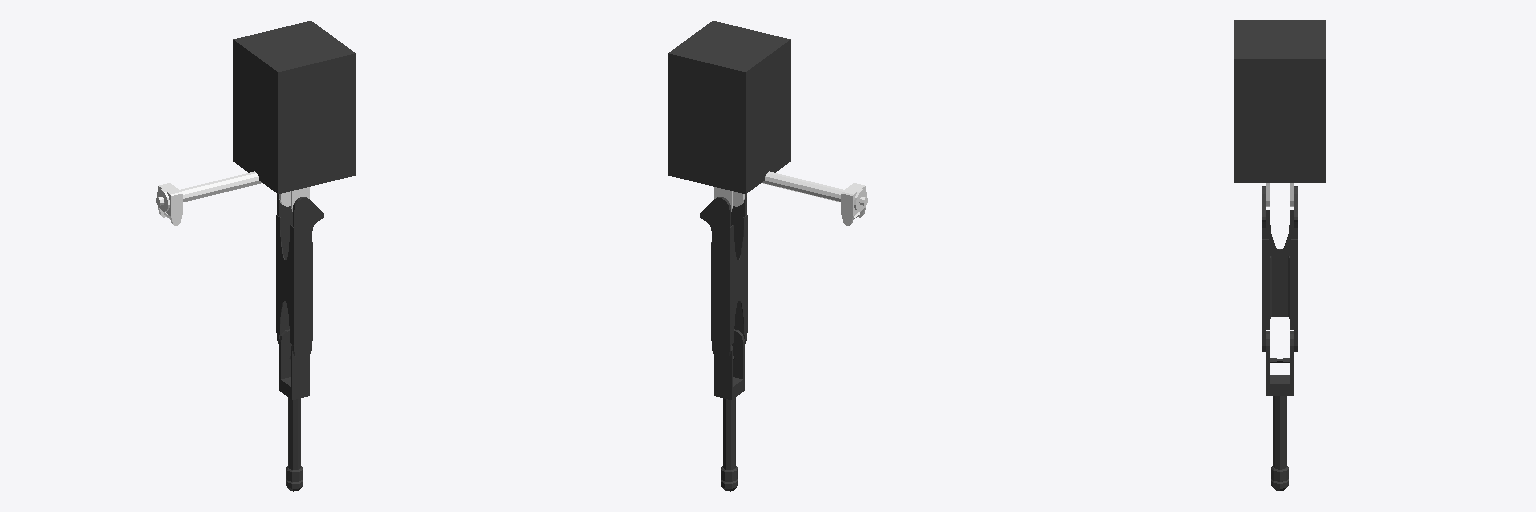
The robot description file, URDF, robot "monoped":
<robot name="monoped">
    <link name="base">
	    <visual>
	      <geometry>
	        <box size="0.20 0.20 0.30"/>
	      </geometry>
	      <material name="blue">
	        <color rgba="0.3 0.3 0.3 1.0"/>
	      </material>
	    </visual>        
    </link>
    
    <link name="hipassembly">
	    <visual>
	      <origin rpy="0.0 0.0 0.0" xyz="0.0 0.0 0.0"/>
	      <geometry>
	        <mesh filename="package://xpp_hyq_monoped_description/meshes/leg/hip.dae" scale="1 1 1"/>
	      </geometry>
	      <material name="white"/>
	    </visual>        
    </link>
    <link name="upperleg">
	    <visual>
	      <origin rpy="0.0 0.0 0.0" xyz="0.0 0.0 0.0"/>
	      <geometry>
	        <mesh filename="package://xpp_hyq_monoped_description/meshes/leg/upper.dae" scale="1 1 1"/>
	      </geometry>
	      <material name="blue"/>
	    </visual>
    </link>
    <link name="lowerleg">
	    <visual>
	      <geometry>
	        <mesh filename="package://xpp_hyq_monoped_description/meshes/leg/lower.dae" scale="1 1 1"/>
	      </geometry>
	      <material name="blue"/>
	    </visual>        
    </link>
    
    <joint name="haa_joint" type="revolute">
        <origin xyz="0.0 0.0 -0.15000" rpy="2.0344439357957036 1.5707962290814481 -1.1071487177940917"/>
        <parent link="base"/>
        <child  link="hipassembly"/>
        <limit effort="200" lower="-1.6" upper="1.6" velocity="1.0"/>
        <axis xyz="0 0 1"/>
    </joint>
    <joint name="hfe_joint" type="revolute">
        <origin xyz="0.08000 0.00000 0.00000" rpy="1.5707963705062866 -0.0 0.0"/>
        <parent link="hipassembly"/>
        <child  link="upperleg"/>
        <limit effort="200" lower="-1.6" upper="1.6" velocity="1.0"/>
        <axis xyz="0 0 1"/>
    </joint>
    <joint name="kfe_joint" type="revolute">
        <origin xyz="0.35000 0.00000 0.00000" rpy="0.0 0.0 0.0"/>
        <parent link="upperleg"/>
        <child  link="lowerleg"/>
        <limit effort="200" lower="-1.6" upper="1.6" velocity="1.0"/>
        <axis xyz="0 0 1"/>
    </joint>
</robot>

--- What the picture shows (computed from the rendered views, not written in the file) ---
Views: 3 orthographic renders of the robot side by side, from view 1: azimuth 30°, elevation 25°; view 2: azimuth 150°, elevation 25°; view 3: azimuth 270°, elevation 25°.
Model monoped with 4 links and 3 joints (3 revolute), rooted at base, posed all joints at 0.
Links seen in each view (by area): view 1: base, upperleg, lowerleg, hipassembly; view 2: base, upperleg, lowerleg, hipassembly; view 3: base, upperleg, lowerleg.
Boxes of the visible links, x1,y1,x2,y2 form: base: [233, 21, 355, 193]; upperleg: [276, 194, 323, 358]; lowerleg: [279, 329, 309, 491]; hipassembly: [156, 171, 309, 225]; base: [668, 21, 790, 193]; upperleg: [700, 194, 747, 358]; lowerleg: [714, 329, 744, 491]; hipassembly: [714, 171, 867, 225]; base: [1234, 20, 1325, 182]; upperleg: [1262, 186, 1297, 351]; lowerleg: [1266, 331, 1293, 490].
Bounding box of the posed robot: 0.4507 × 0.2 × 1.09 m (x, y, z).
3 mesh visuals loaded from 3 distinct referenced files (3 Collada DAE).